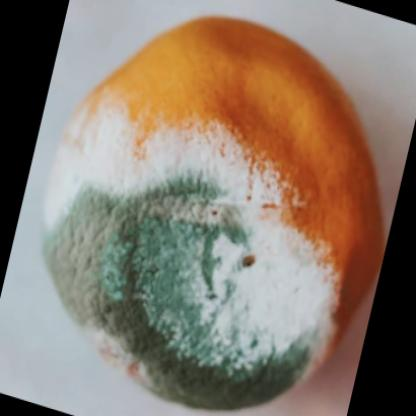rotten: (43, 16, 389, 408)
